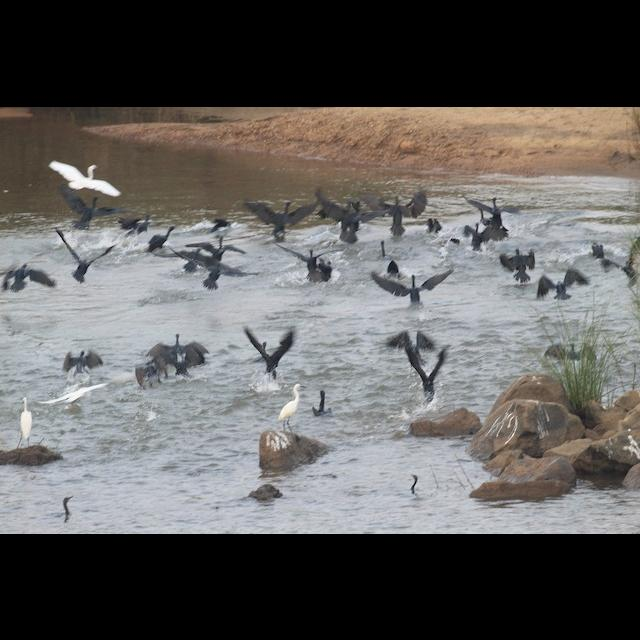cormorant: (372, 265, 456, 303)
